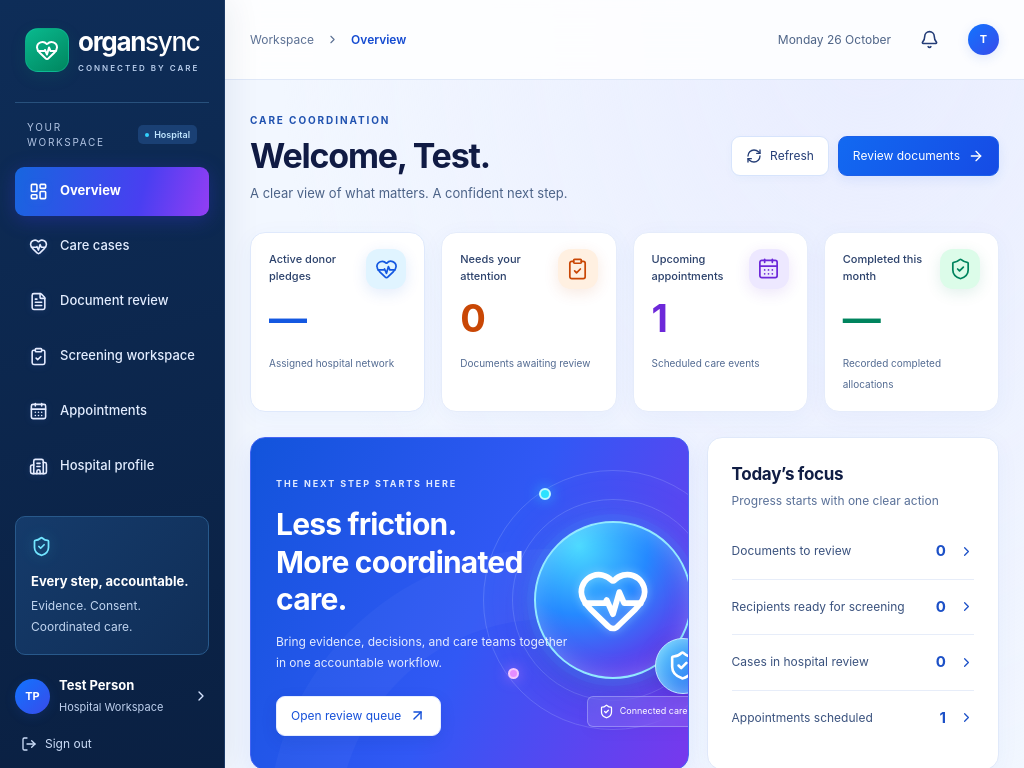
Test: an in-progress appointment cannot be completed before its end time
Click the button "Appointments" at [112, 411], box x1=15 y1=387 x2=209 y2=436
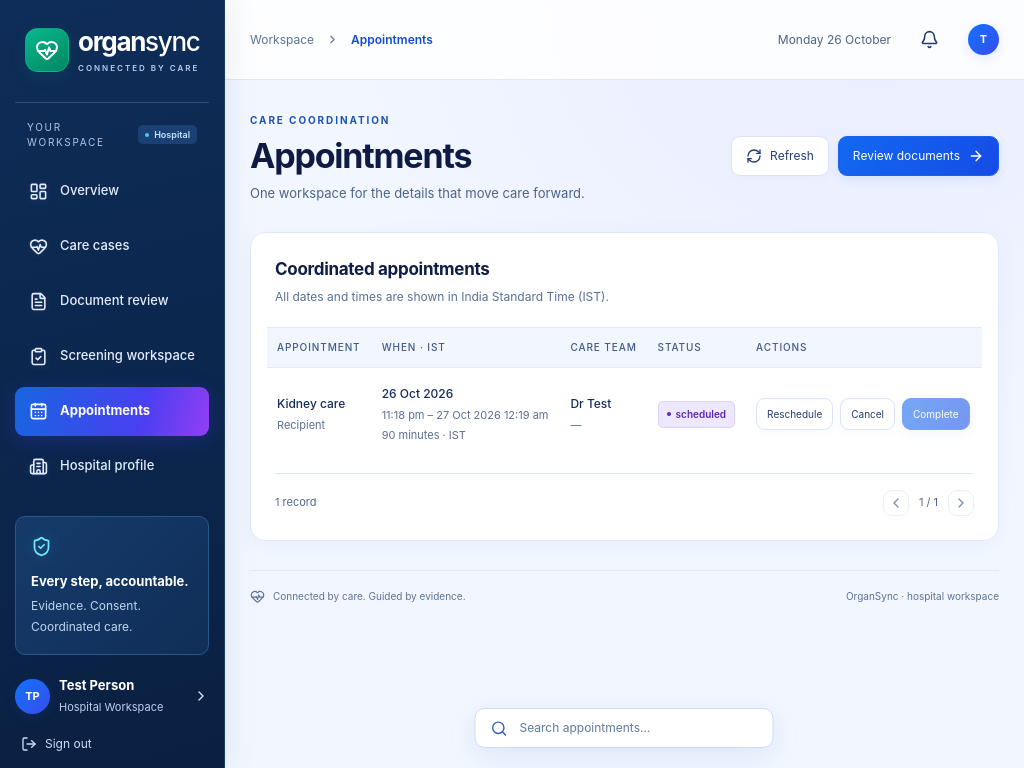
Expected: the button "Complete" is disabled, x1=902 y1=398 x2=970 y2=430
Result: the text "90 minutes · IST" is shown at x1=382 y1=428 x2=466 y2=442
